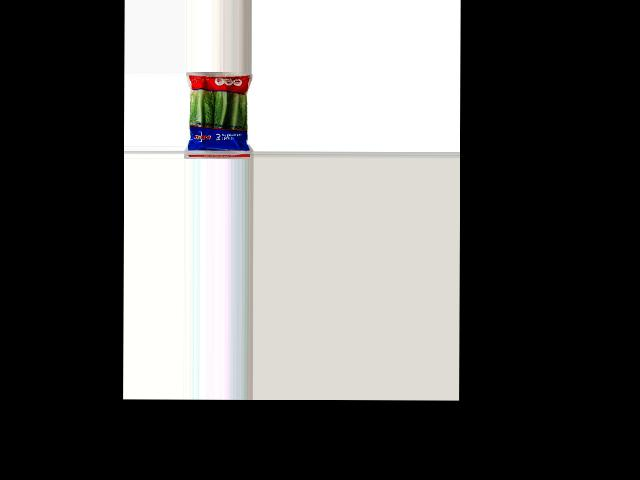lettuce: (184, 72, 250, 154)
